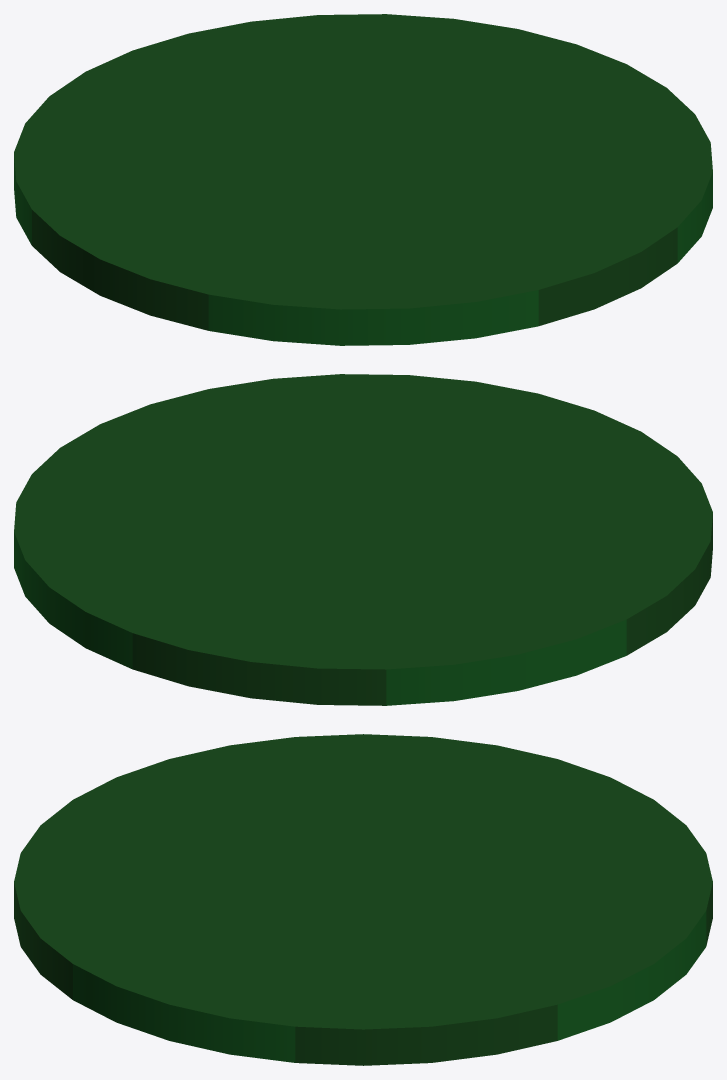
Rendered from tip2.glb.
3 views of the same model, one above another, from view 1: azimuth 30°, elevation 25°; view 2: azimuth 150°, elevation 25°; view 3: azimuth 270°, elevation 25° (orthographic).
Parts seen in each view (by area): view 1: tip; view 2: tip; view 3: tip.
Part boxes in pixels (x1,y1,x2,y2): tip: [14, 14, 712, 345]; tip: [14, 374, 712, 705]; tip: [14, 734, 712, 1065].
Size of the model in its own units: 0.4 by 0.09 by 0.4.
